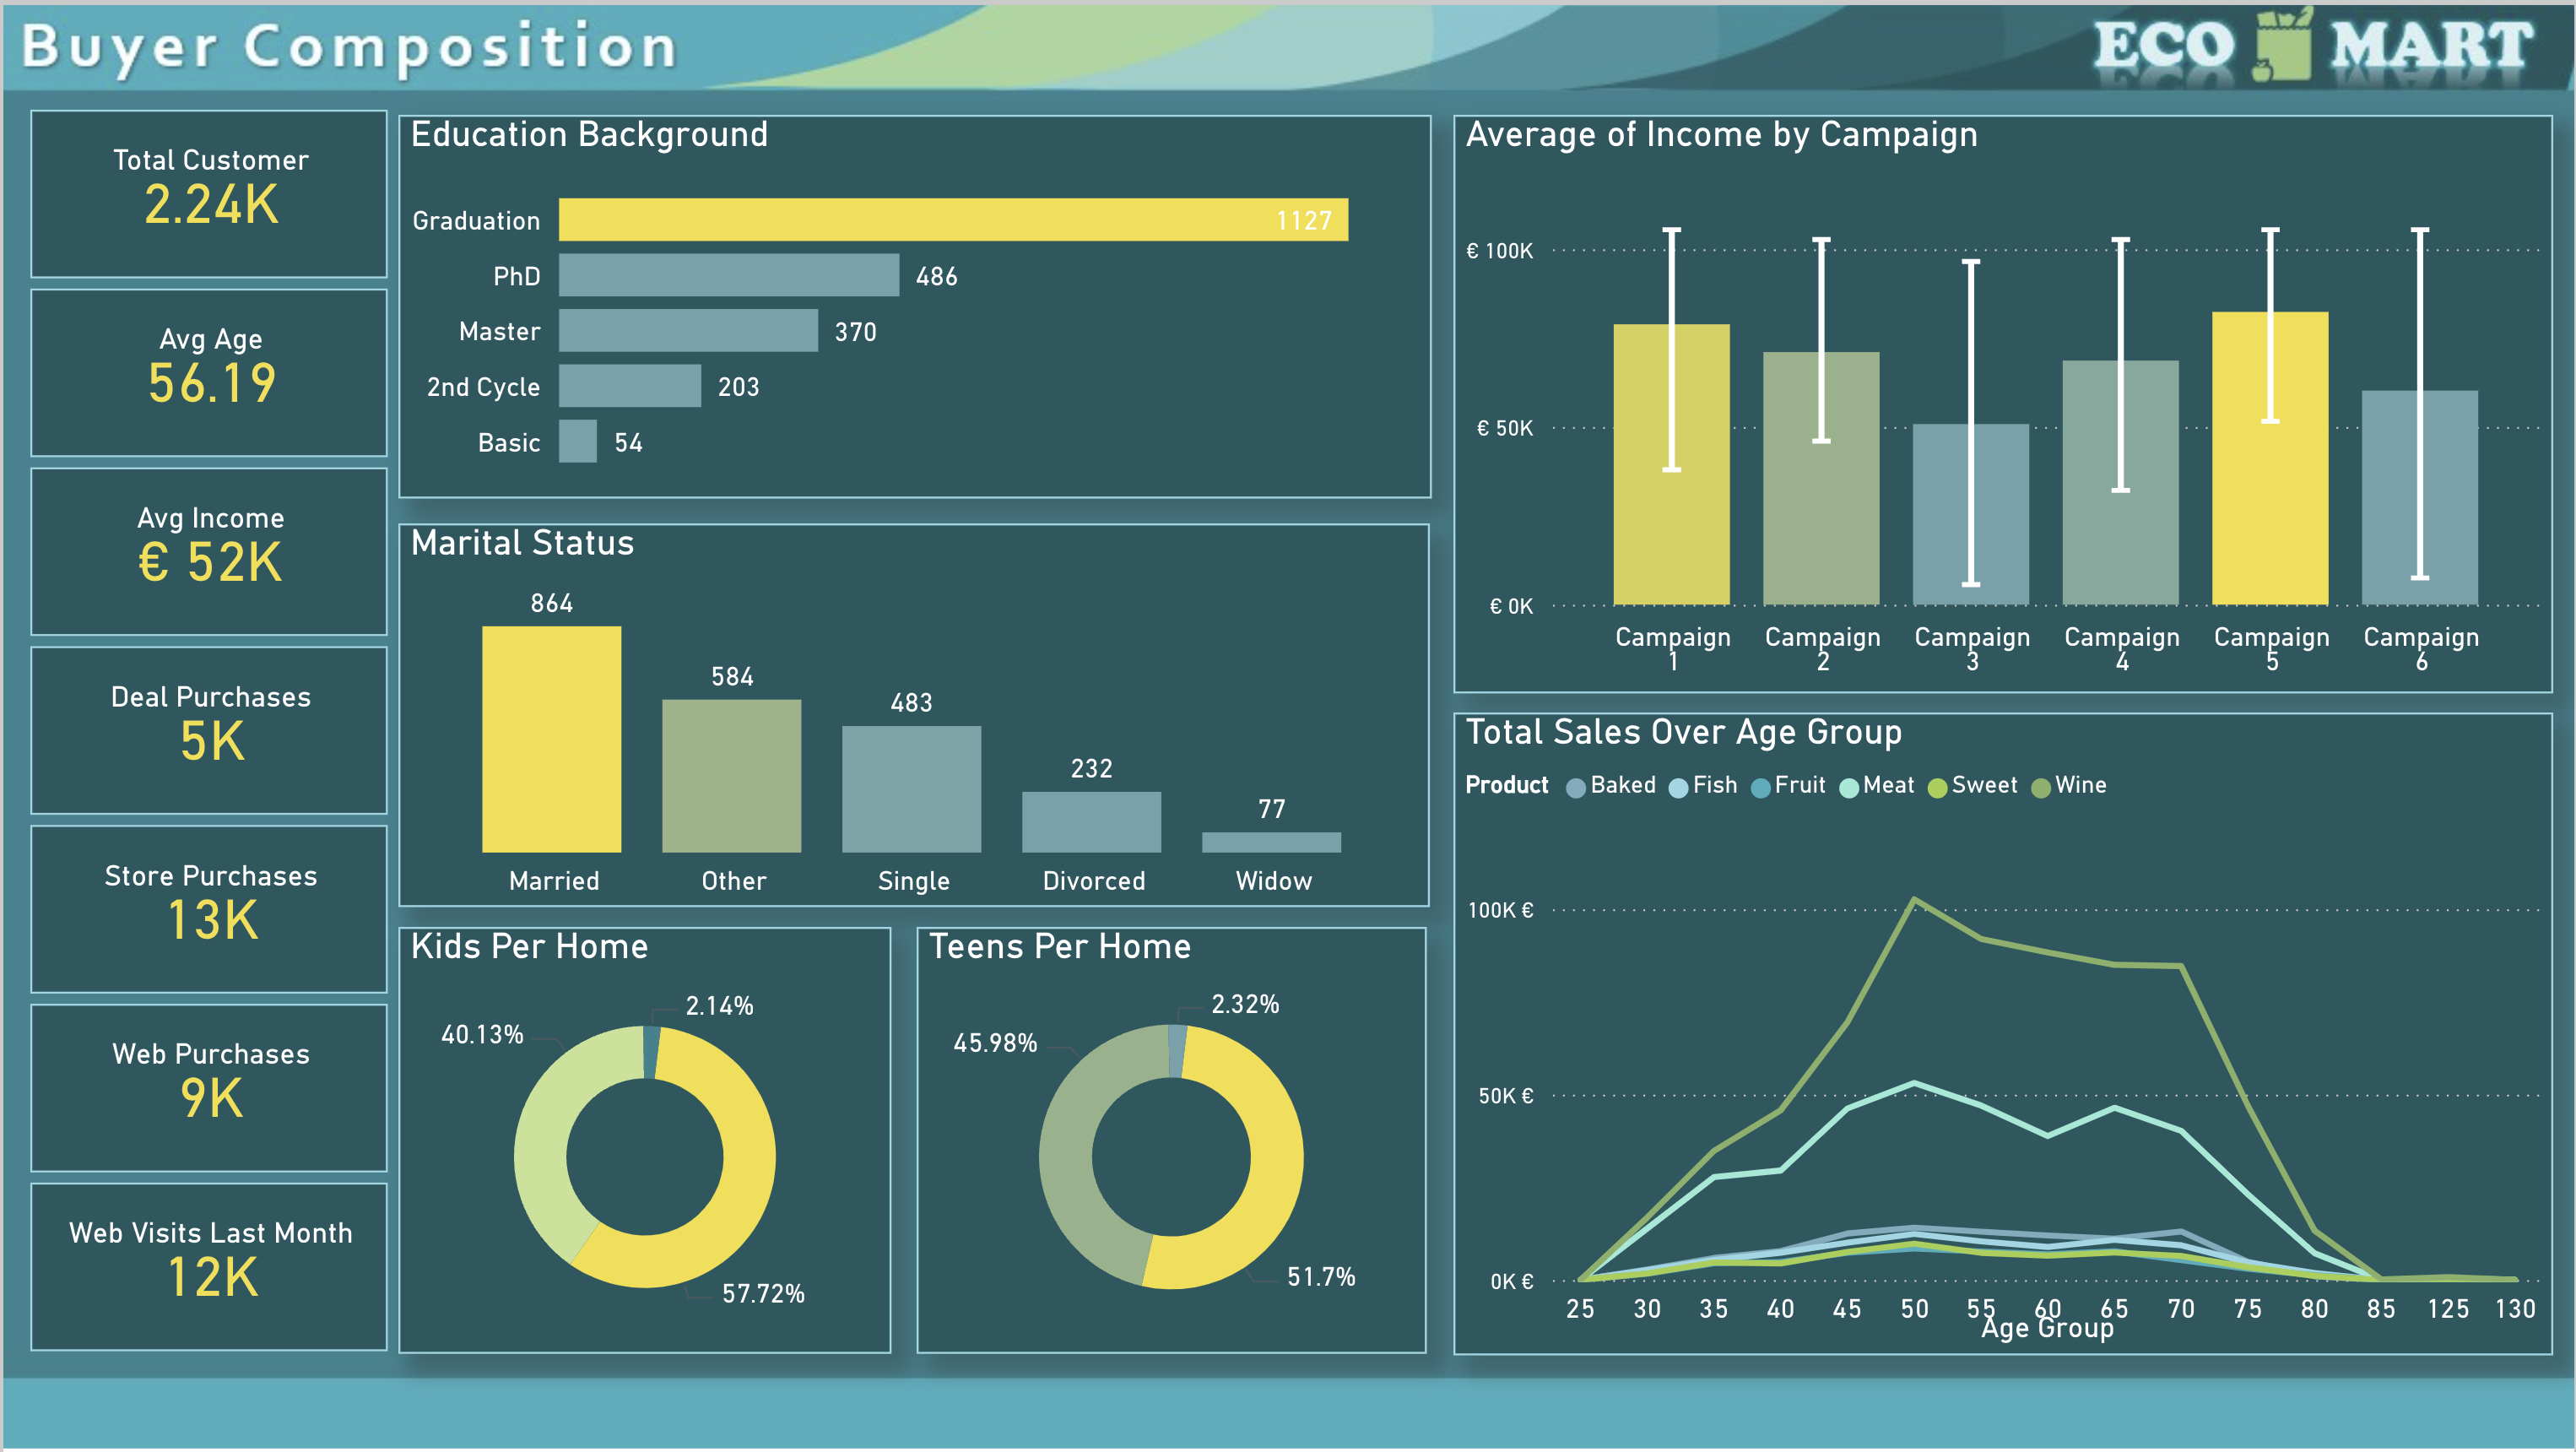

This screenshot's page, from the dashboard's own definition file:
{"tool":"powerbi","page":{"name":"Buyer Composition","canvas":[1280,720],"ordinal":1},"visuals":[{"type":"barChart","title":"Education Background","fields":{"Category":["marketmindz_research_data.Education"],"Y":["CountNonNull(marketmindz_research_data.ID)"]},"box":[197,54.7,514.7,190.8],"z":0},{"type":"columnChart","title":"Marital Status","fields":{"Category":["marketmindz_research_data.Marital_Status"],"Y":["CountNonNull(marketmindz_research_data.ID)"]},"box":[197,257.9,513.7,190.8],"z":1000},{"type":"donutChart","title":"Kids Per Home","fields":{"Y":["CountNonNull(marketmindz_research_data.ID)"],"Category":["marketmindz_research_data.Kidhome"]},"box":[197,459,245.5,212.5],"z":2000},{"type":"donutChart","title":"Teens Per Home","fields":{"Y":["CountNonNull(marketmindz_research_data.ID)"],"Category":["marketmindz_research_data.Teenhome"]},"box":[454.9,459,253.8,212.5],"z":3000},{"type":"columnChart","fields":{"Category":["campaing.Campaing"],"Y":["Avg(marketmindz_research_data. Income )"]},"box":[722.1,54.7,547.7,287.8],"z":4000},{"type":"lineChart","title":"Total Sales Over Age Group","fields":{"Category":["marketmindz_research_data.Age Group"],"Y":["Sum(products.Total Sales)"],"Series":["products.Product"]},"box":[722.1,351.8,547.7,319.8],"z":5000},{"type":"cardVisual","fields":{"Data":["CountNonNull(marketmindz_research_data.ID)","Avg(marketmindz_research_data.Age)","Avg(marketmindz_research_data. Income )","Sum(marketmindz_research_data.Purchased-Deal)","Sum(marketmindz_research_data.Purchased-Store)","Sum(marketmindz_research_data.Purchased-Web)","Sum(marketmindz_research_data.Web Visits Last Month)"]},"box":[8.2,47.5,188.8,633.4],"z":6000}]}

Visuals, with their boxes in screenshot pixels (x1, y1, x2, y2), scaled from the page's 1280x720 canvas onto the 2576x1452 screenshot:
"Education Background" barChart: bbox=(397, 111, 1432, 495)
"Marital Status" columnChart: bbox=(397, 520, 1431, 905)
"Kids Per Home" donutChart: bbox=(397, 925, 890, 1354)
"Teens Per Home" donutChart: bbox=(916, 925, 1426, 1354)
columnChart - campaing.Campaing x Avg(marketmindz_research_data. Income ): bbox=(1453, 111, 2556, 691)
"Total Sales Over Age Group" lineChart: bbox=(1453, 709, 2556, 1354)
cardVisual - CountNonNull(marketmindz_research_data.ID) x Avg(marketmindz_research_data.Age): bbox=(17, 95, 397, 1373)
